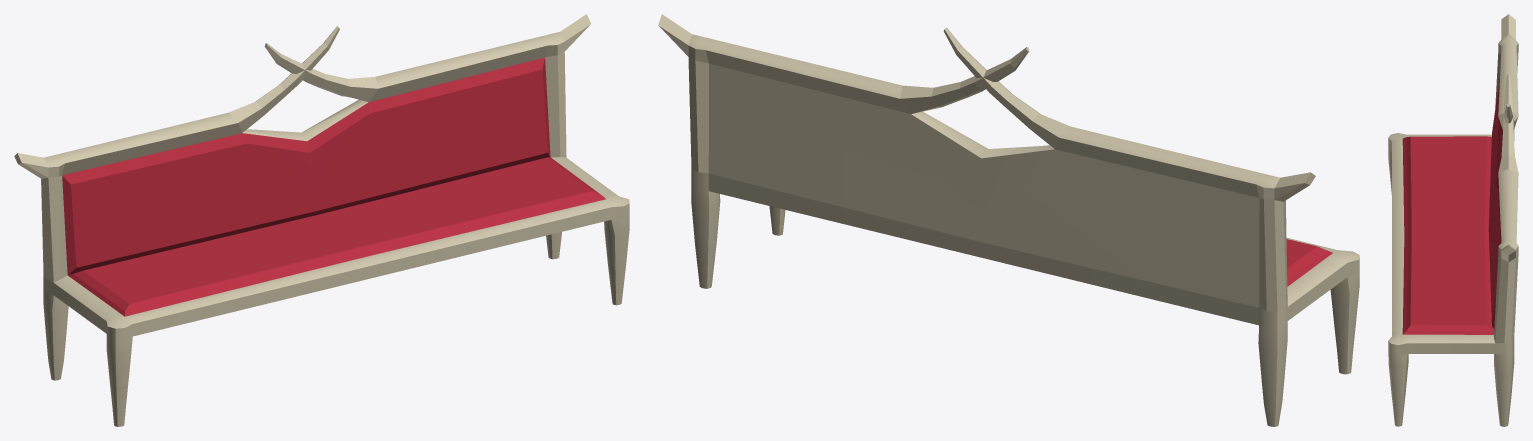
The model's file is Butaca_FBX.fbx.
The picture shows the model from 3 angles, left to right: view 1: azimuth 30°, elevation 25°; view 2: azimuth 150°, elevation 25°; view 3: azimuth 270°, elevation 25°; orthographic projection. The views are drawn at different scales.
Visible parts, largest first — view 1: Butaca1; view 2: Butaca1; view 3: Butaca1.
Boxes of the visible parts, x1=… form: Butaca1: x1=14, y1=14, x2=629, y2=426; Butaca1: x1=658, y1=14, x2=1359, y2=426; Butaca1: x1=1388, y1=14, x2=1518, y2=426.
Size of the model in its own units: 4.04 by 1.91 by 0.9585.
